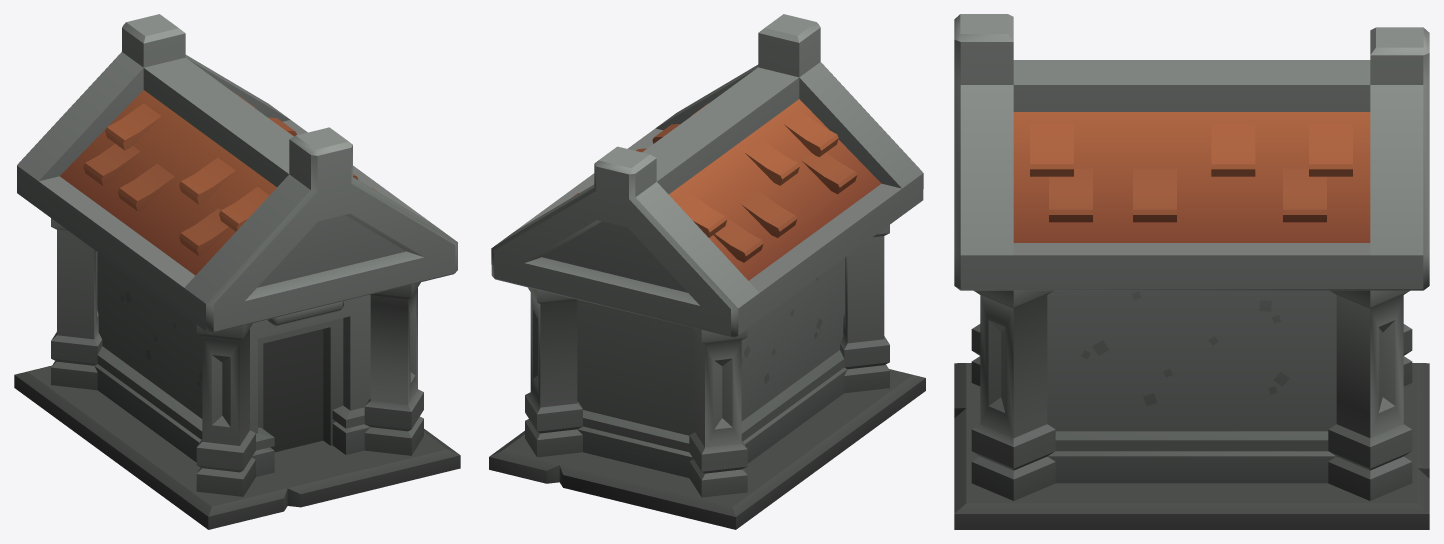
Rendered from crypt.glb.
3 renders of one model, left to right at view 1: azimuth 30°, elevation 25°; view 2: azimuth 150°, elevation 25°; view 3: azimuth 270°, elevation 25°, orthographic. The views are drawn at different scales.
Visible parts, largest first — view 1: crypt; view 2: crypt; view 3: crypt.
Boxes of the visible parts, x1,y1,x2,y2 form: crypt: (14,14,460,529); crypt: (489,14,925,529); crypt: (954,14,1429,529).
Size of the model in its own units: 2.55 by 3.4 by 3.4.
